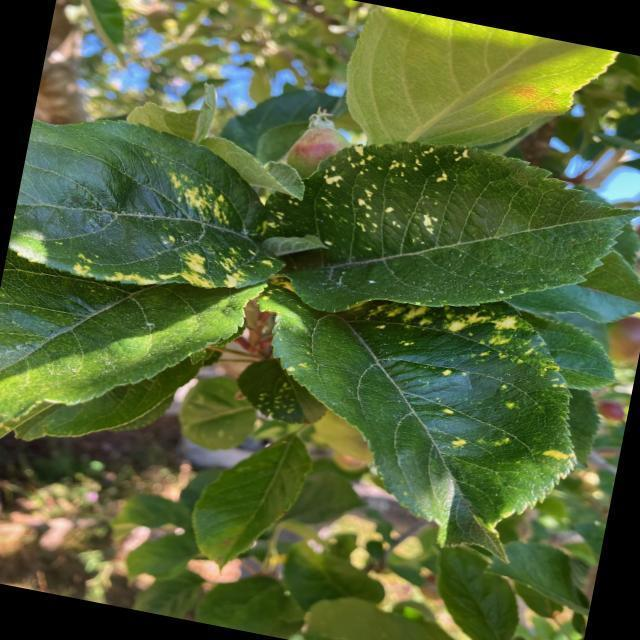Mosaic Virus: (316, 276, 590, 480), (5, 149, 258, 309), (304, 125, 472, 249)
